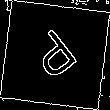P_SE: (25, 24, 85, 86)
